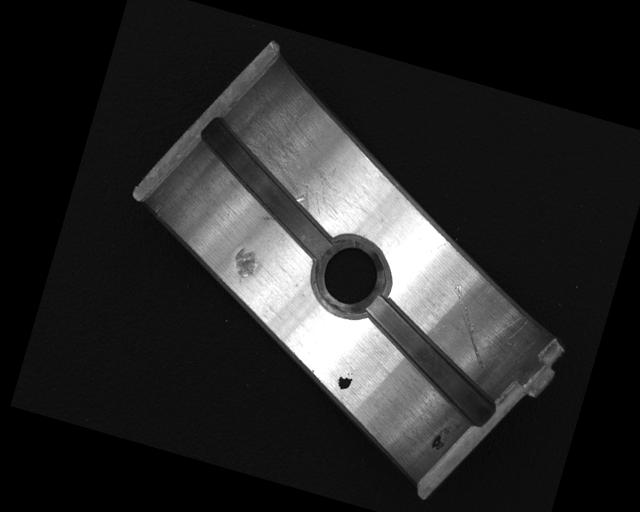blot: (430, 426, 449, 453), (335, 369, 354, 392)
bruise: (227, 245, 261, 288)
gap: (177, 115, 354, 262), (344, 293, 515, 430)
hole: (304, 229, 397, 327)
nick: (433, 282, 504, 371)
scratch: (222, 101, 357, 231)
